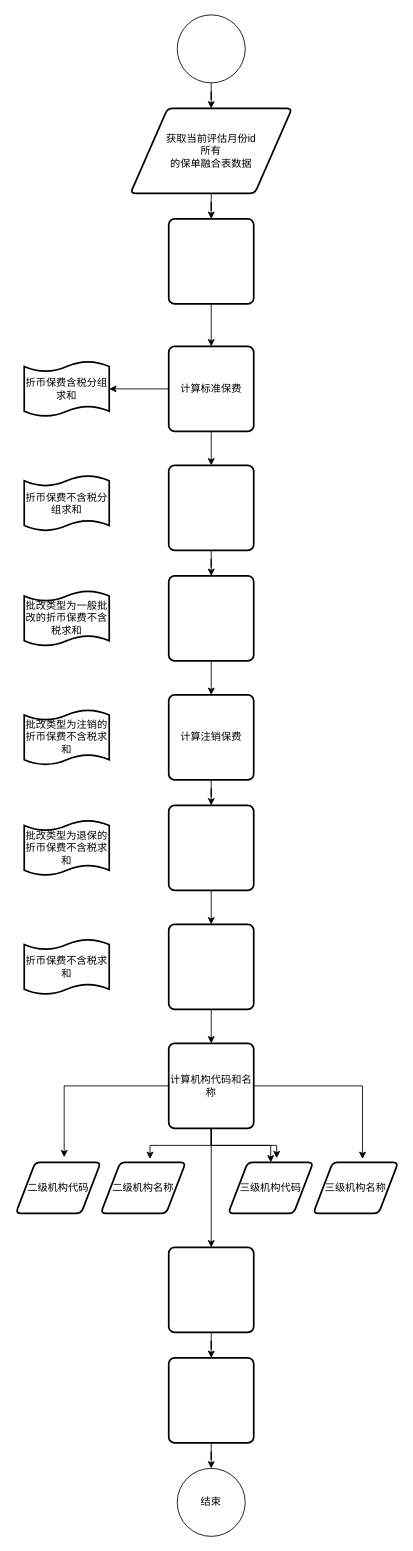
This 413x1551 diagram has some shape labels left out. The shapes that lost their labels are listed below. From the top down, each one's centre as x and y in pixels, then its label:
the point at 210,48: 开始
the point at 210,261: 按机构代码，险种代码，险别代码，保单起保日期，数据类型，业务类型分组
the point at 210,507: 计算签单保费
the point at 210,618: 计算批改保费
the point at 210,847: 计算退保保费
the point at 210,966: 计算保费收入
the point at 210,1289: 根据当前时间设置统计季度，统计月度
the point at 210,1400: 根据保单融合表的保险起期设置统计季度，统计月度
